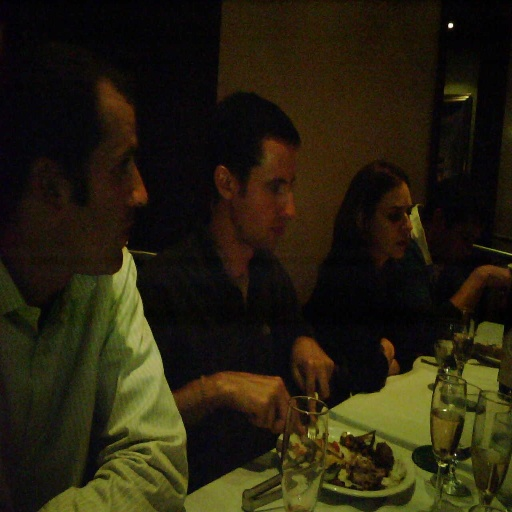hand: (177, 360, 300, 451), (293, 336, 336, 422)
